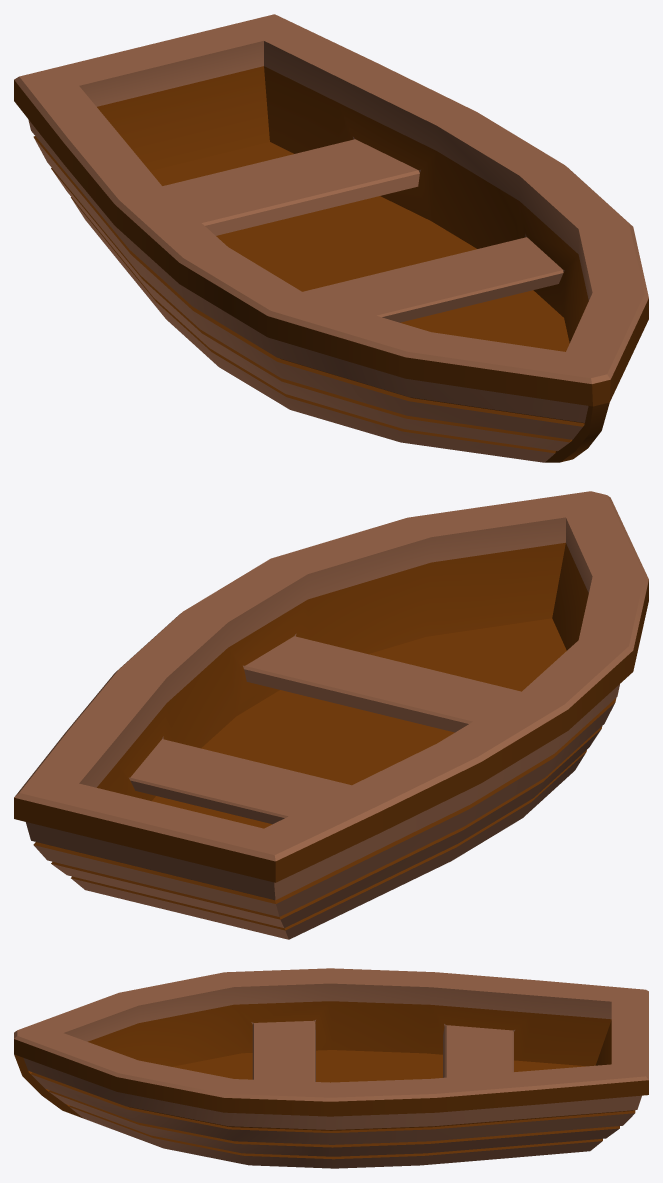
The model's file is boat.fbx.
The picture shows the model from 3 angles, top to bottom: view 1: azimuth 30°, elevation 25°; view 2: azimuth 150°, elevation 25°; view 3: azimuth 270°, elevation 25°; orthographic projection. The views are drawn at different scales.
Parts seen in each view (by area): view 1: Cube; view 2: Cube; view 3: Cube.
Boxes of the visible parts, left/top/right/bottom form: Cube: left=14, top=14, right=648, bottom=462; Cube: left=14, top=491, right=648, bottom=939; Cube: left=14, top=968, right=648, bottom=1168.
Bounding box in the file's own units: 539 × 160 × 1097.
